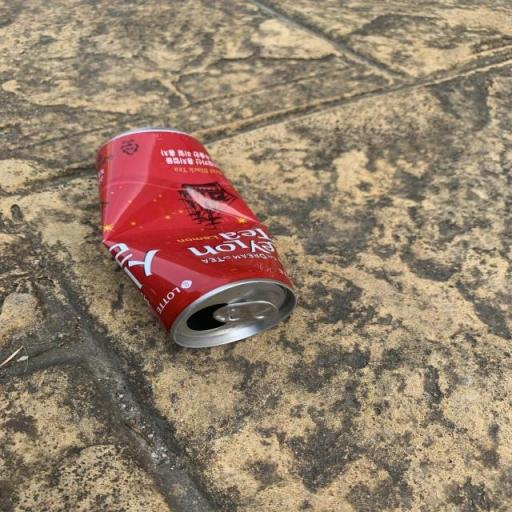metal: (86, 118, 304, 360)
